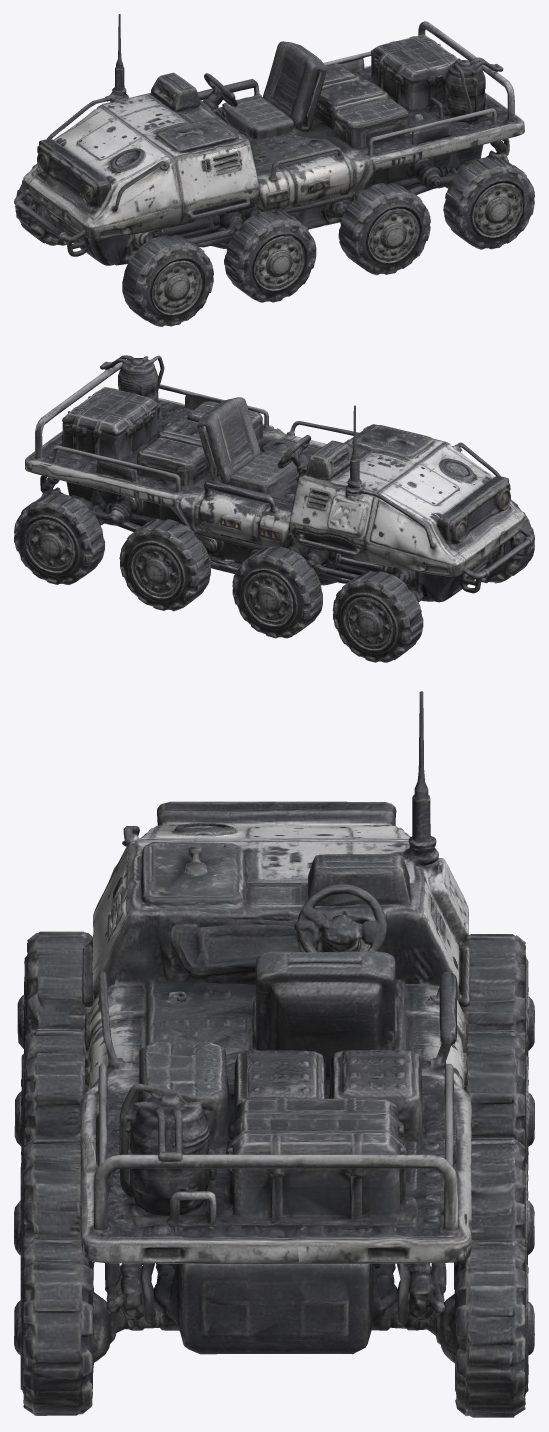
File: prop-rover.glb
3 renders of one model, top to bottom at view 1: azimuth 30°, elevation 25°; view 2: azimuth 150°, elevation 25°; view 3: azimuth 270°, elevation 25°, orthographic. The views are drawn at different scales.
Size of the model in its own units: 1.9 by 0.9441 by 0.988.
1 material, 1 textured.
